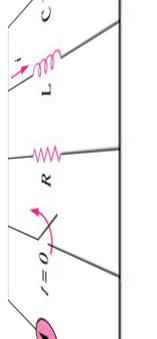inductor: (25, 36, 65, 87)
